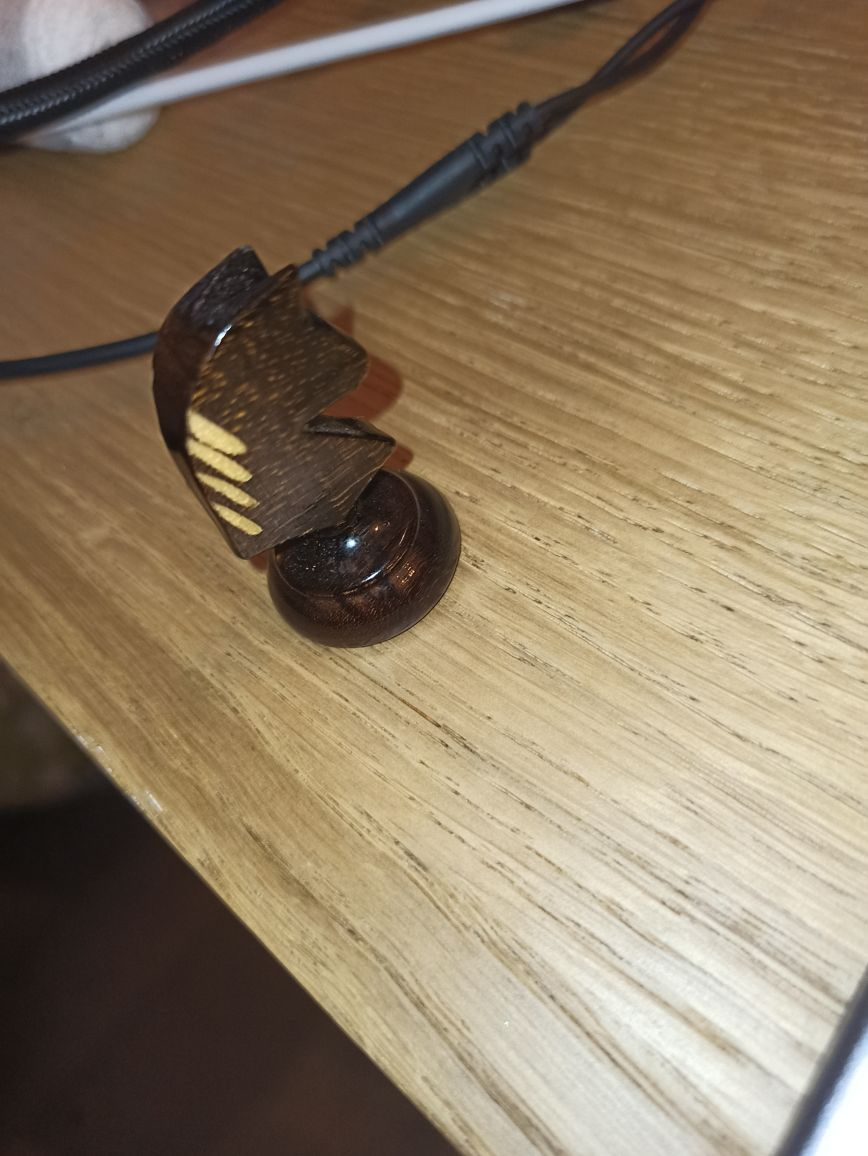bknight: (145, 245, 459, 652)
